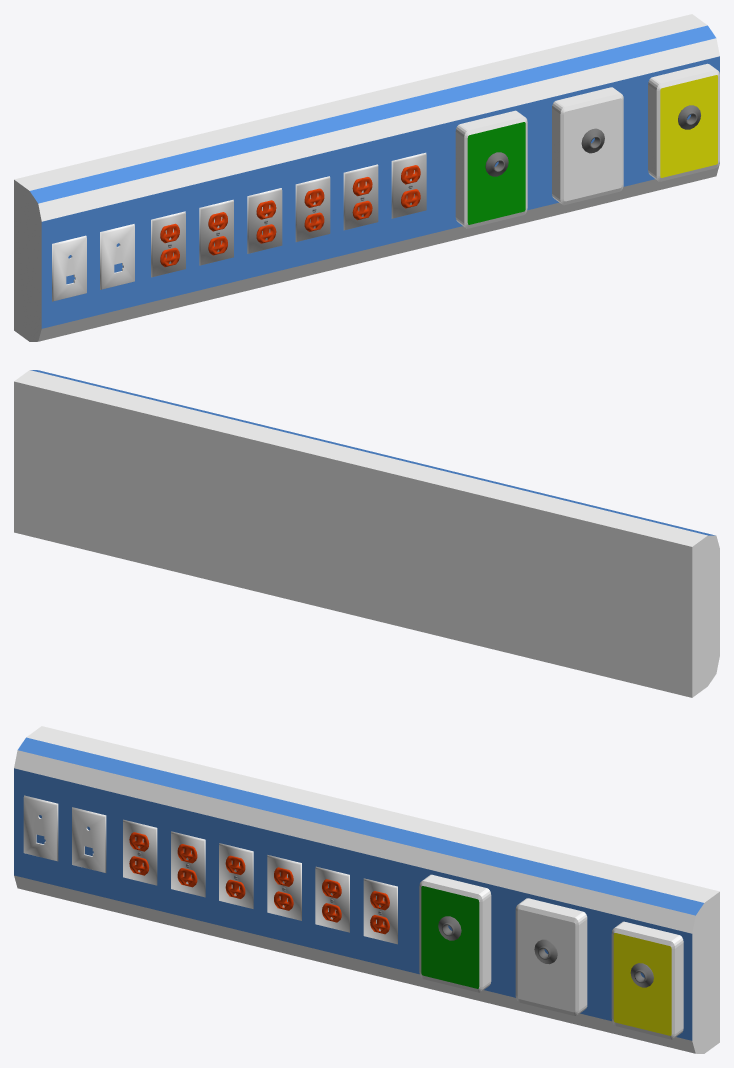
The picture shows the model from 3 angles, top to bottom: view 1: azimuth 30°, elevation 25°; view 2: azimuth 150°, elevation 25°; view 3: azimuth 330°, elevation 25°; orthographic projection.
Parts seen in each view (by area): view 1: TM-5; view 2: TM-5; view 3: TM-5.
Boxes of the visible parts, left/top/right/bottom form: TM-5: left=14, top=14, right=719, bottom=341; TM-5: left=14, top=370, right=719, bottom=697; TM-5: left=14, top=726, right=719, bottom=1053.
Size of the model in its own units: 141 by 30 by 14.29.
